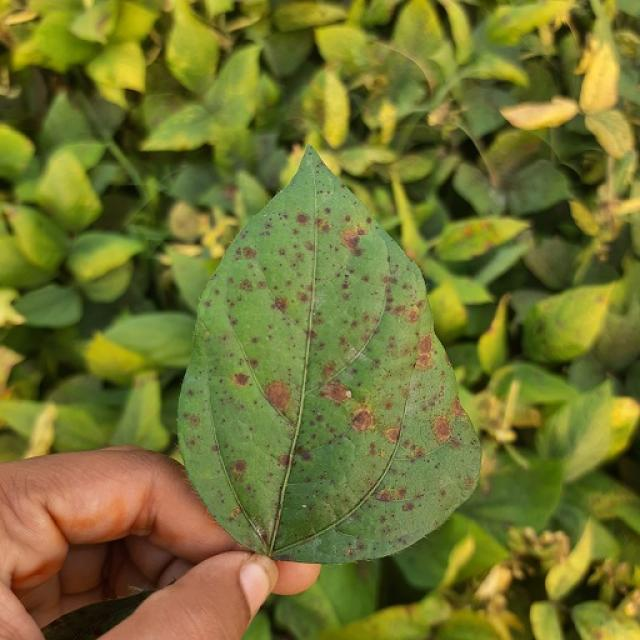Anthracnose: (263, 370, 298, 429), (265, 381, 291, 413), (319, 381, 351, 404), (342, 227, 365, 251), (351, 409, 374, 432), (433, 416, 451, 443), (417, 334, 433, 356), (450, 396, 464, 419), (415, 353, 431, 370), (384, 428, 400, 444), (273, 297, 288, 313), (315, 218, 330, 234), (233, 372, 249, 386), (321, 364, 335, 380), (297, 448, 312, 462), (232, 459, 246, 473), (241, 246, 256, 259), (295, 213, 309, 225), (278, 454, 290, 468), (239, 279, 253, 291), (377, 490, 392, 501), (407, 310, 419, 323), (401, 501, 414, 512), (396, 487, 407, 499), (305, 328, 316, 339), (230, 506, 241, 517), (188, 414, 199, 425), (248, 358, 258, 369), (298, 293, 308, 303), (304, 241, 314, 251), (341, 282, 349, 290), (278, 248, 285, 256), (324, 207, 331, 214)
Blackgram: (180, 150, 478, 562)
